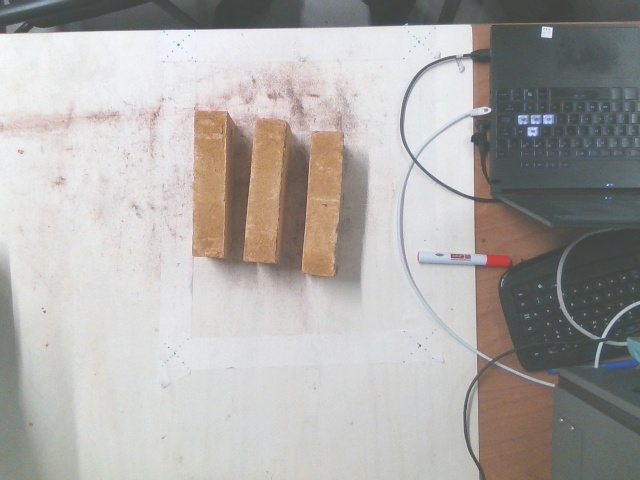brick-side: (244, 120, 285, 263), (305, 131, 342, 273), (195, 114, 225, 255)
